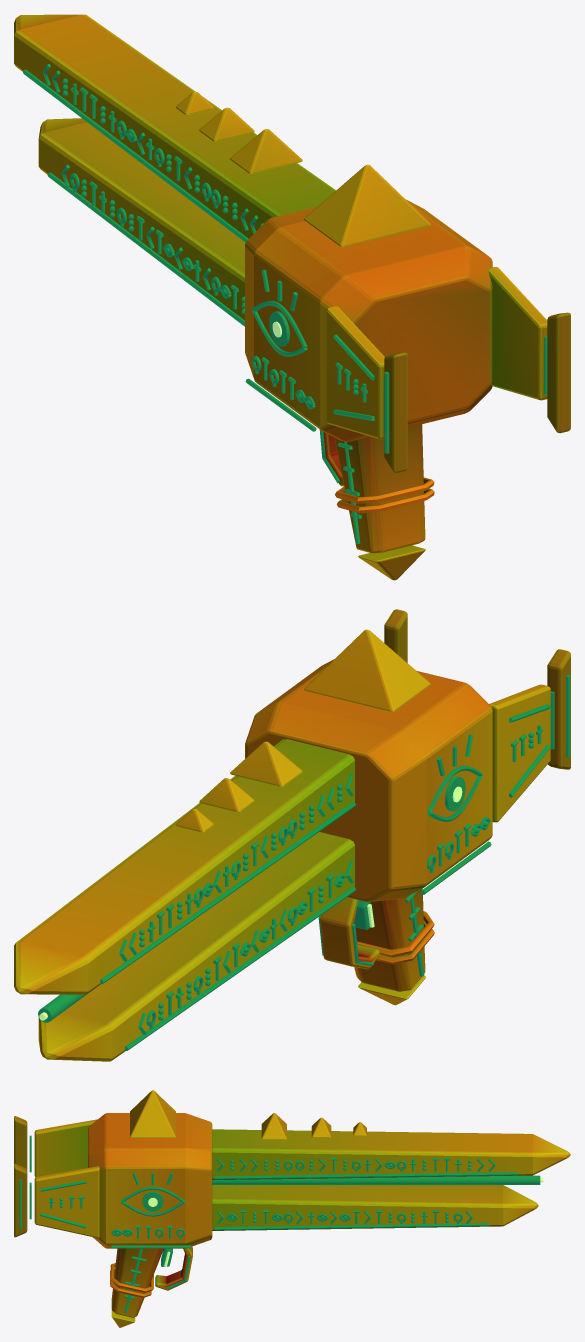
File: titan_weapon_scrap.glb
The picture shows the model from 3 angles, top to bottom: view 1: azimuth 30°, elevation 25°; view 2: azimuth 150°, elevation 25°; view 3: azimuth 270°, elevation 25°; orthographic projection. The views are drawn at different scales.
Visible parts, largest first — view 1: Body, Glow; view 2: Body, Glow; view 3: Body, Glow.
Boxes of the visible parts, x1=… form: Body: x1=14, y1=14, x2=570, y2=580; Glow: x1=23, y1=63, x2=547, y2=543; Body: x1=14, y1=609, x2=570, y2=1061; Glow: x1=38, y1=675, x2=570, y2=1050; Body: x1=14, y1=1090, x2=570, y2=1327; Glow: x1=19, y1=1135, x2=543, y2=1312.
Bounding box in the file's own units: 0.7834 × 1.59 × 3.39.
